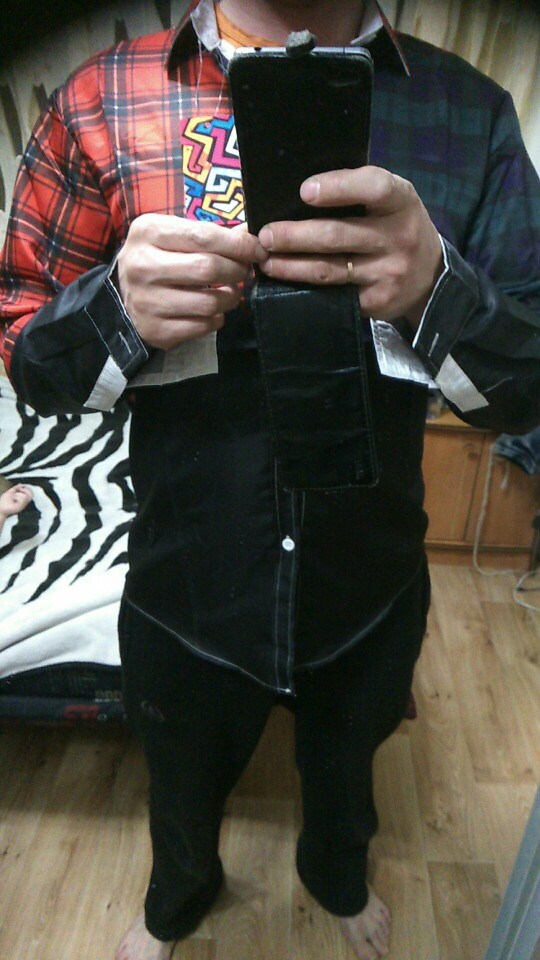shirts: (13, 7, 540, 687)
